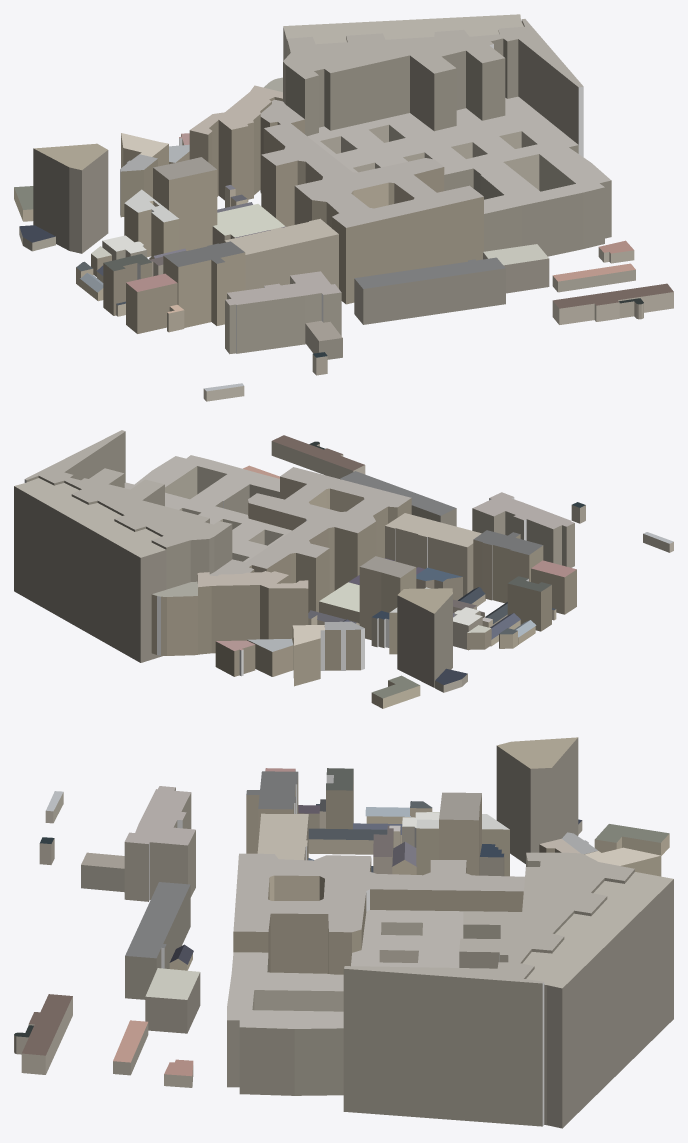
The picture shows the model from 3 angles, top to bottom: view 1: azimuth 30°, elevation 25°; view 2: azimuth 150°, elevation 25°; view 3: azimuth 270°, elevation 25°; orthographic projection. The views are drawn at different scales.
Visible parts, largest first — view 1: tuile; view 2: tuile; view 3: tuile.
Boxes of the visible parts, bbox=[...] form: tuile: bbox=[14, 14, 673, 401]; tuile: bbox=[14, 430, 673, 708]; tuile: bbox=[14, 737, 673, 1128].
Size of the model in its own units: 274 by 59.99 by 251.
